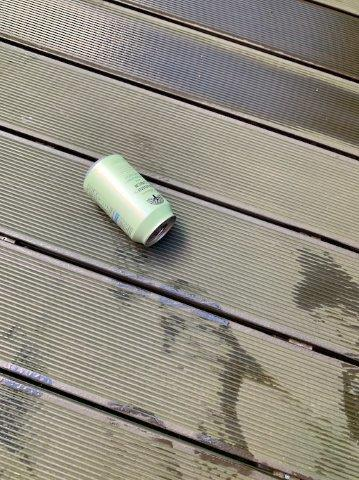kaleng: (85, 155, 175, 244)
